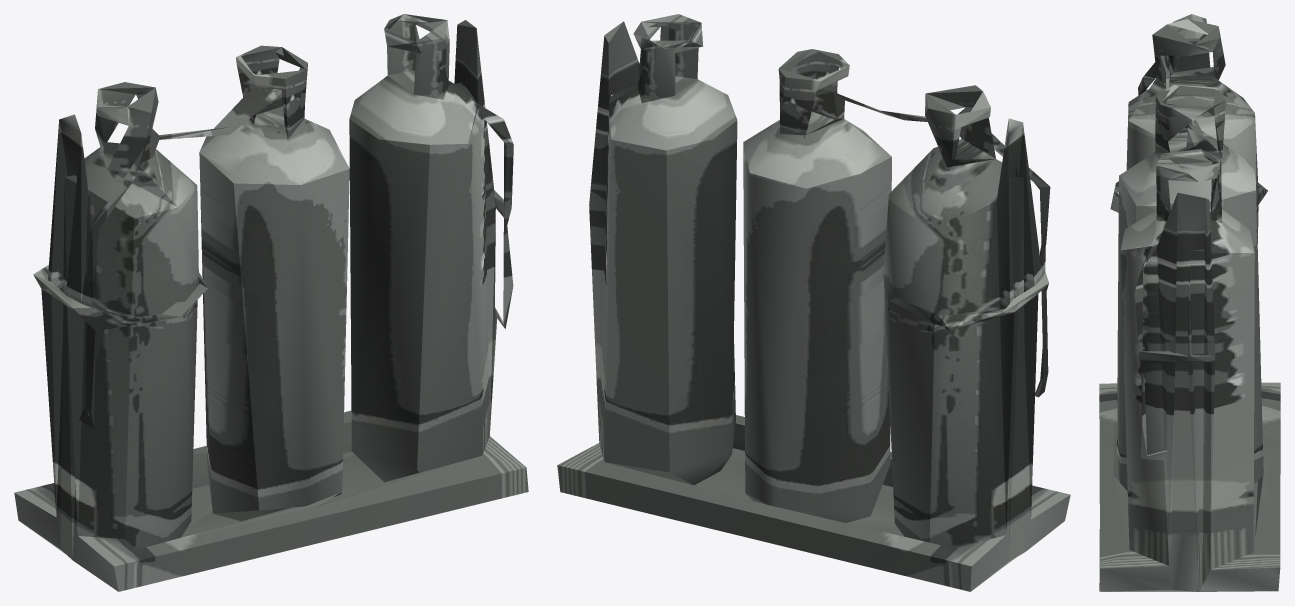
The picture shows the model from 3 angles, left to right: view 1: azimuth 30°, elevation 25°; view 2: azimuth 150°, elevation 25°; view 3: azimuth 270°, elevation 25°; orthographic projection. The views are drawn at different scales.
Visible parts, largest first — view 1: Decor_gas_cylinders_c; view 2: Decor_gas_cylinders_c; view 3: Decor_gas_cylinders_c.
Boxes of the visible parts, box(x1,y1,x2,y2) form: Decor_gas_cylinders_c: box(14, 14, 528, 591); Decor_gas_cylinders_c: box(557, 14, 1070, 591); Decor_gas_cylinders_c: box(1099, 14, 1280, 591).
Size of the model in its own units: 1.42 by 1.39 by 0.5595.
Materials: 1 (1 with a texture image).
